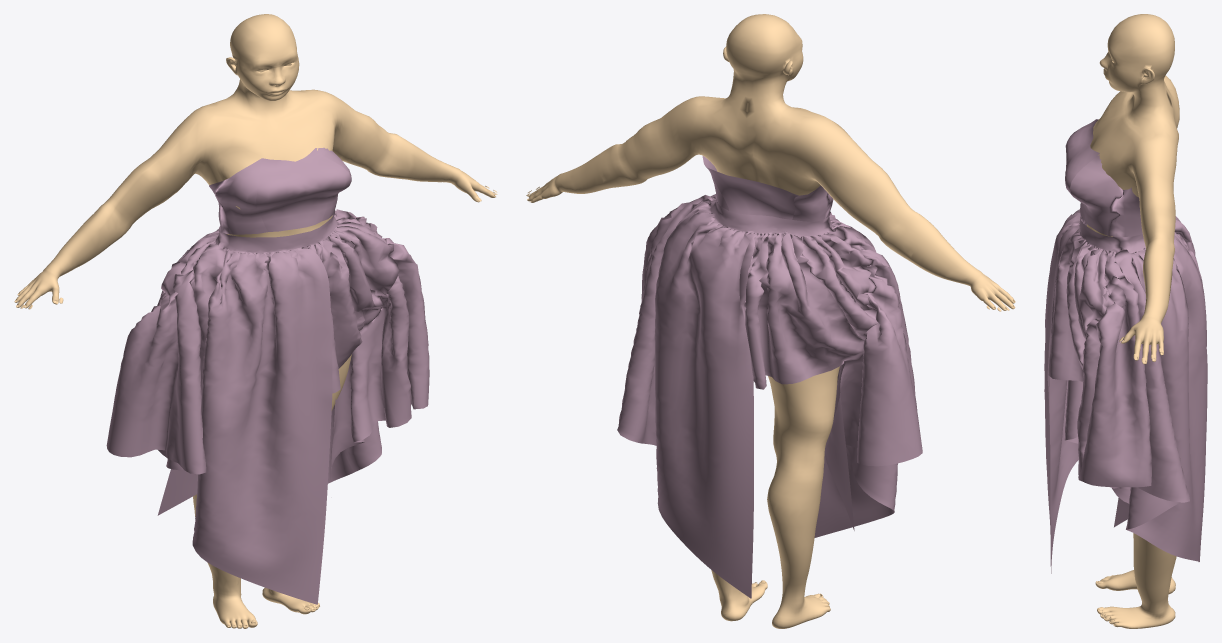
The model's file is dress8.glb.
The picture shows the model from 3 angles, left to right: view 1: azimuth 30°, elevation 25°; view 2: azimuth 150°, elevation 25°; view 3: azimuth 270°, elevation 25°; orthographic projection.
Parts seen in each view (by area): view 1: Project 1, Body; view 2: Project 1, Body; view 3: Project 1, Body.
Boxes of the visible parts, x1=… form: Project 1: x1=106, y1=147, x2=429, y2=604; Body: x1=14, y1=14, x2=495, y2=628; Project 1: x1=617, y1=156, x2=922, y2=598; Body: x1=527, y1=14, x2=1015, y2=628; Project 1: x1=1044, y1=119, x2=1207, y2=573; Body: x1=1086, y1=14, x2=1179, y2=628.
Size of the model in its own units: 1.59 by 1.88 by 0.4668.
